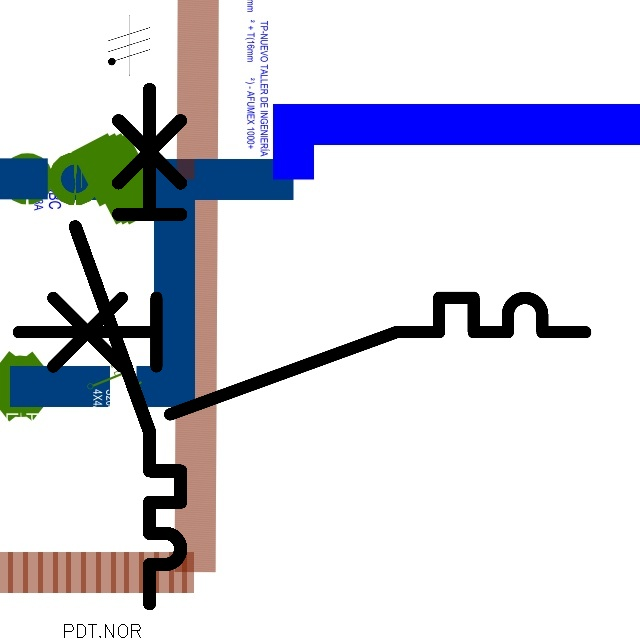interruptor_termomagnetico: (4, 283, 600, 429), (62, 76, 194, 617)
